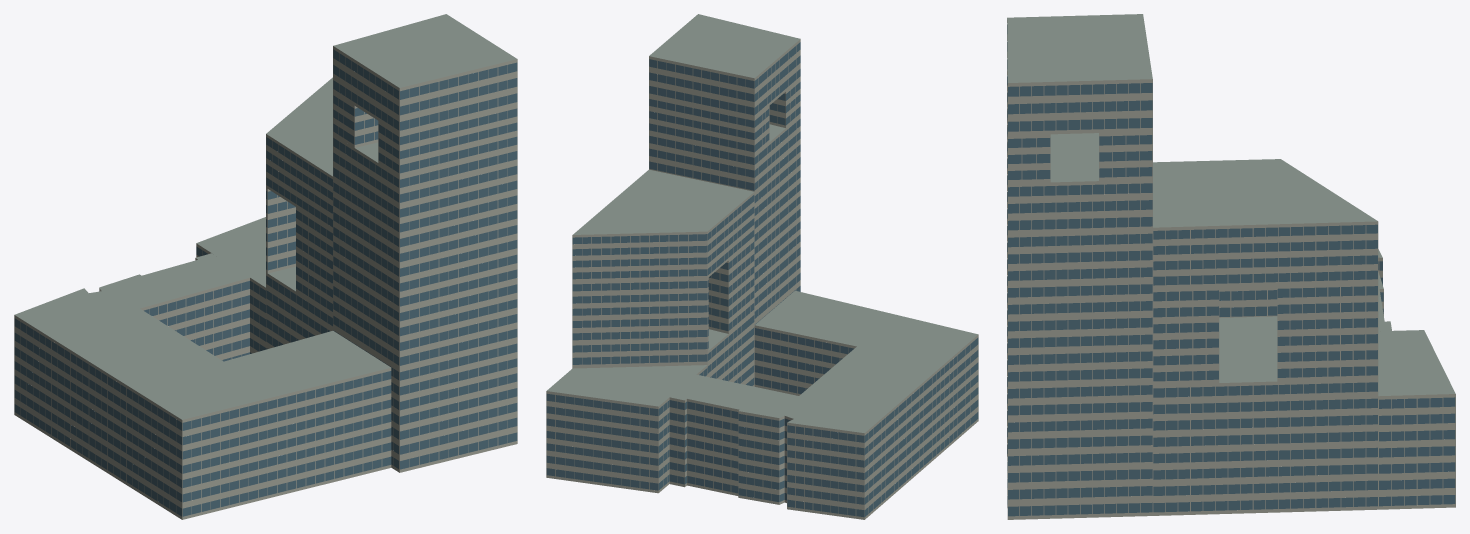
The model's file is ito-tower-near.glb.
3 renders of one model, left to right at view 1: azimuth 30°, elevation 25°; view 2: azimuth 150°, elevation 25°; view 3: azimuth 270°, elevation 25°, orthographic. The views are drawn at different scales.
Visible parts, largest first — view 1: ito-tower-0-glass, ito-tower-0-stone, ito-tower-0-roof; view 2: ito-tower-0-glass, ito-tower-0-stone, ito-tower-0-roof; view 3: ito-tower-0-glass, ito-tower-0-stone, ito-tower-0-roof.
Boxes of the visible parts, <box> form: ito-tower-0-glass: <box>14,49,517,516</box>; ito-tower-0-stone: <box>14,46,517,519</box>; ito-tower-0-roof: <box>14,14,516,419</box>; ito-tower-0-glass: <box>546,42,978,517</box>; ito-tower-0-stone: <box>546,39,978,519</box>; ito-tower-0-roof: <box>547,14,977,432</box>; ito-tower-0-glass: <box>1007,24,1455,516</box>; ito-tower-0-stone: <box>1007,20,1455,519</box>; ito-tower-0-roof: <box>1007,14,1455,396</box>.
Size of the model in its own units: 94.53 by 100 by 93.08.
